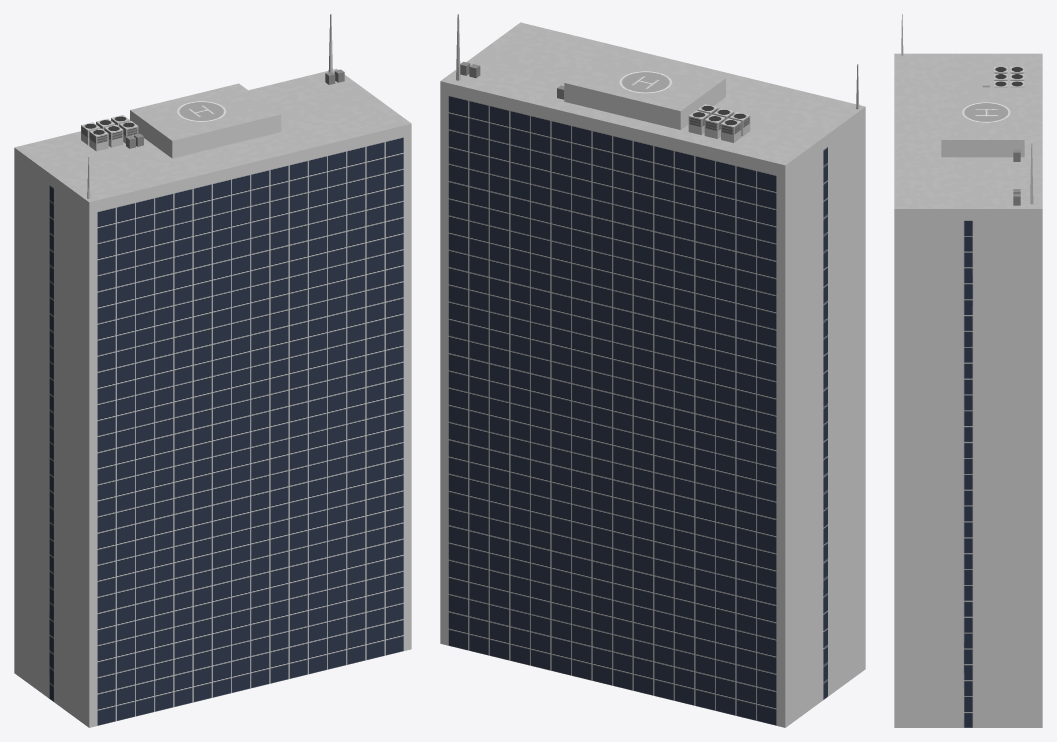
Rendered from Building_HW_W5_W1_001.fbx.
3 views of the same model, side by side, from view 1: azimuth 30°, elevation 25°; view 2: azimuth 150°, elevation 25°; view 3: azimuth 270°, elevation 25° (orthographic). The views are drawn at different scales.
Visible parts, largest first — view 1: Building_HW_W5_W1_001; view 2: Building_HW_W5_W1_001; view 3: Building_HW_W5_W1_001.
Part boxes in pixels (<box>): Building_HW_W5_W1_001: <box>14,14,411,727</box>; Building_HW_W5_W1_001: <box>440,14,865,727</box>; Building_HW_W5_W1_001: <box>894,14,1042,727</box>.
Bounding box in the file's own units: 92.52 × 161 × 37.27.
